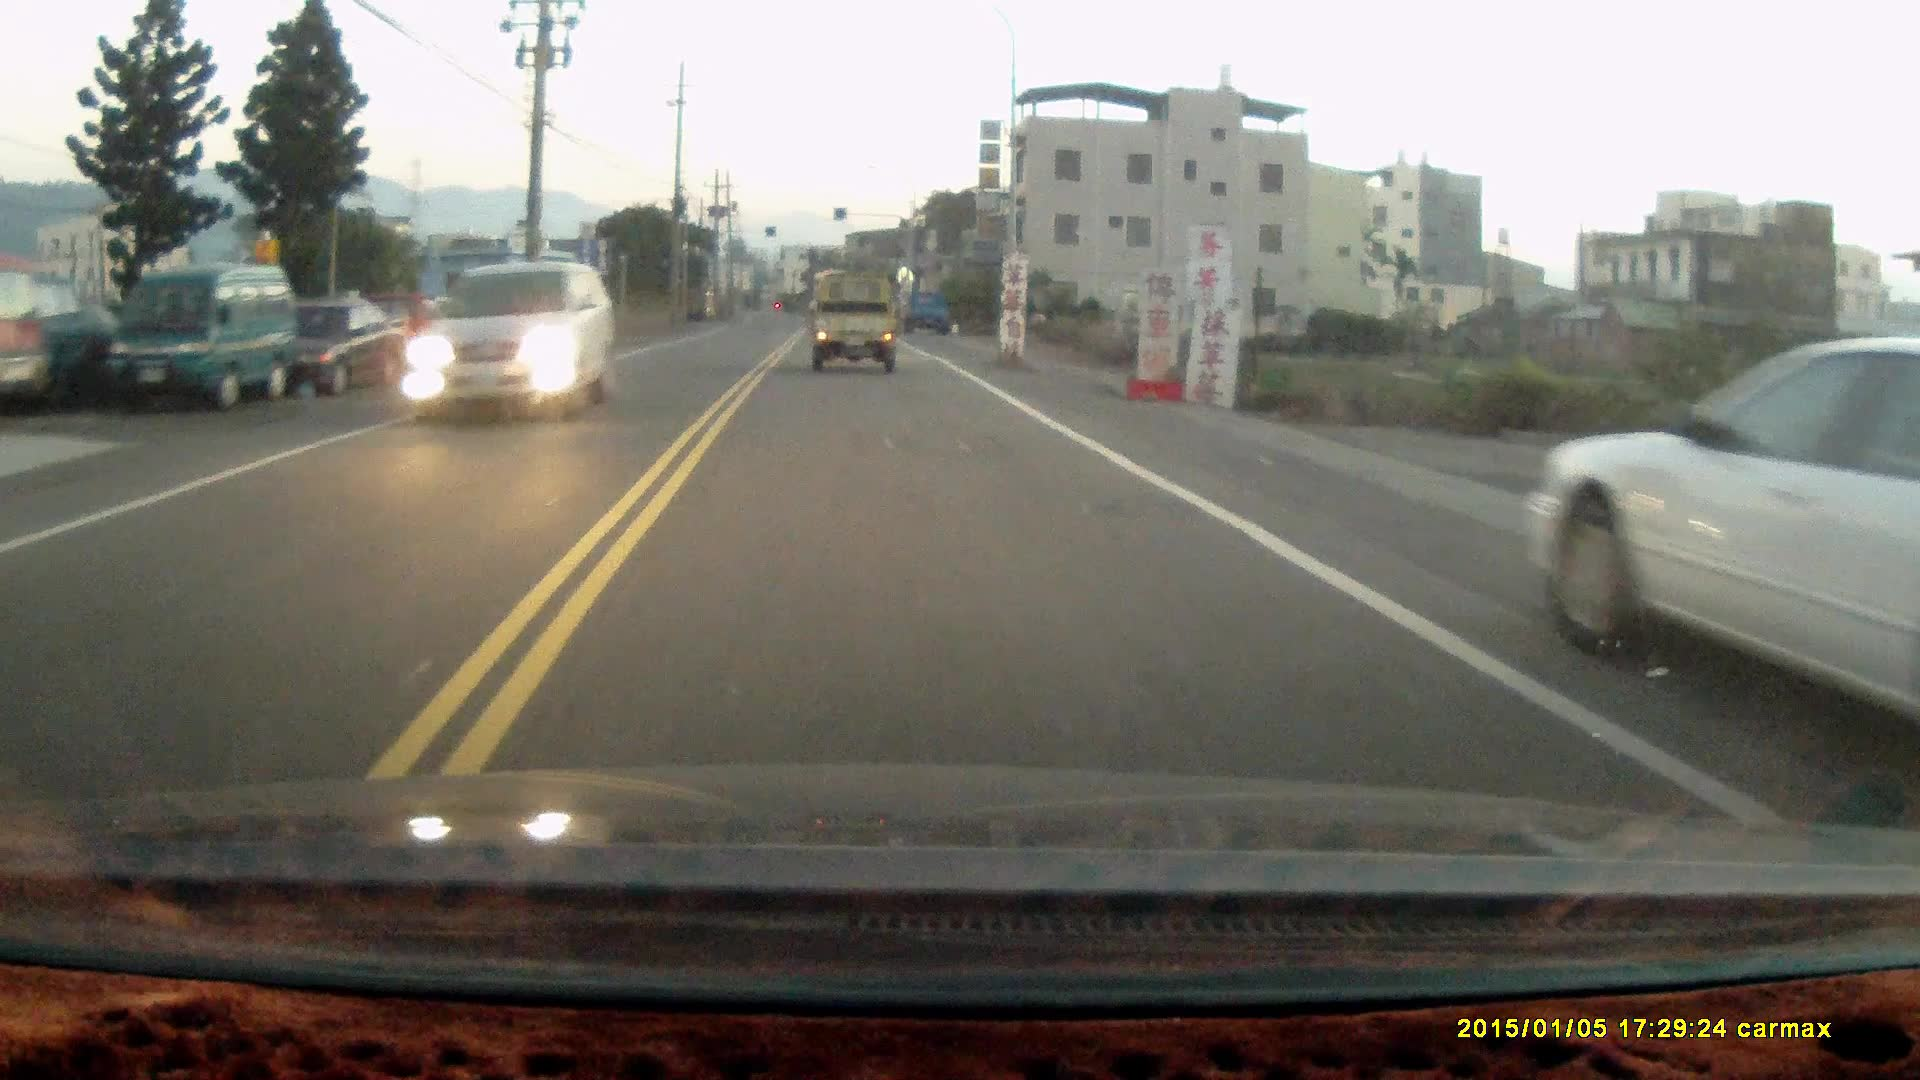vehicle: (1526, 339, 1920, 742), (410, 262, 615, 434), (105, 258, 295, 406), (281, 291, 415, 404), (808, 276, 903, 373), (901, 291, 953, 336)
